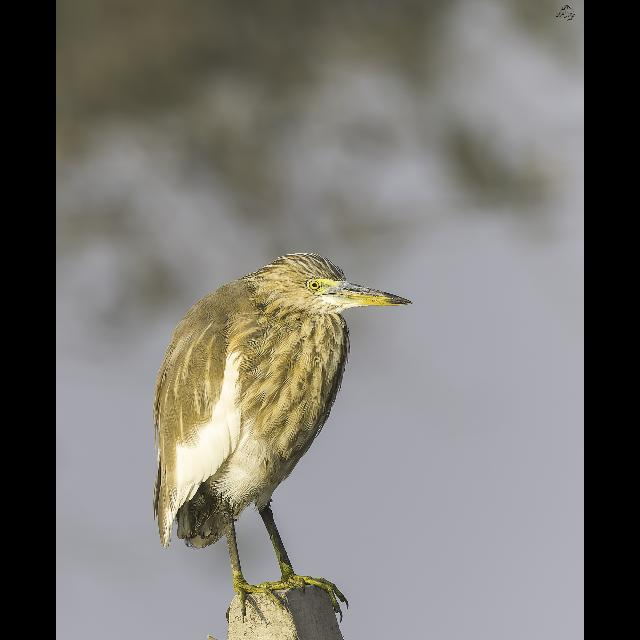heron: (144, 244, 428, 626)
